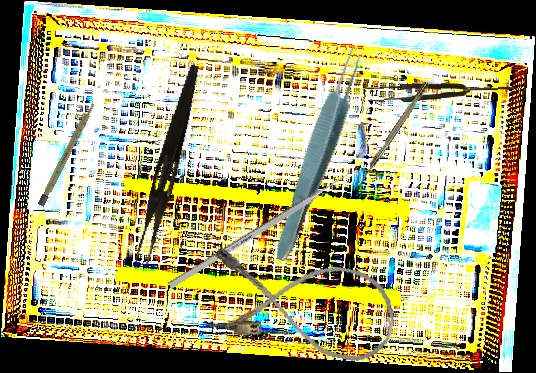Cannula: (199, 241, 404, 368)
Dressing Forceps: (134, 62, 202, 267)
Hook Surgical: (358, 81, 430, 184)
Pusher: (167, 164, 362, 290)
Scalpel Handle: (37, 100, 97, 207)
Tissue Forceps: (267, 43, 372, 266), (367, 79, 515, 104)
